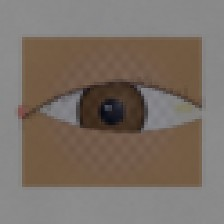pinguecula_lesion: (165, 93, 203, 123)
